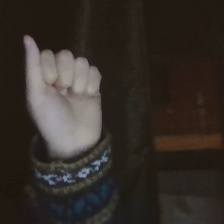A: (15, 31, 116, 145)
